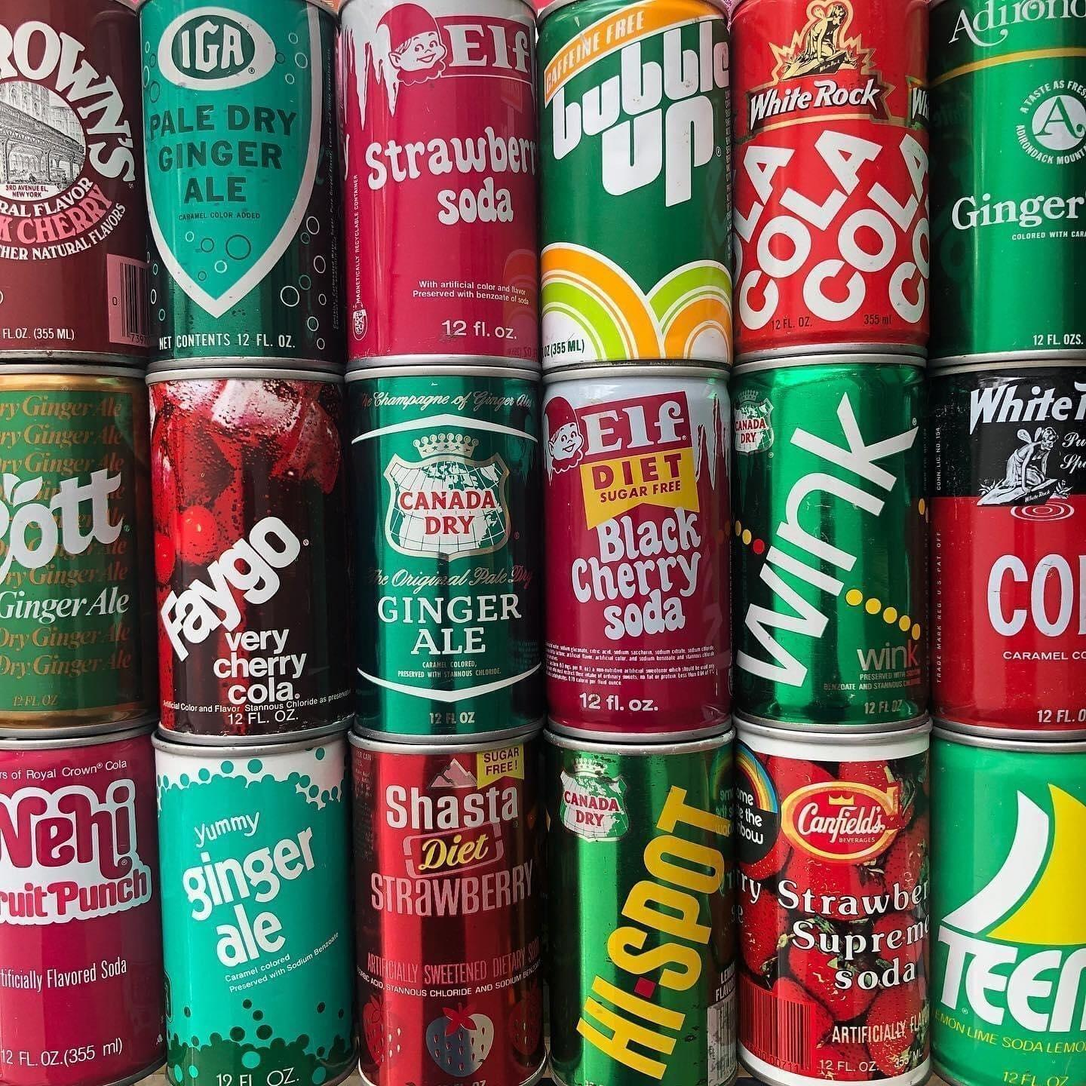tin can: (146, 364, 359, 744), (131, 2, 345, 376), (348, 359, 553, 744), (731, 353, 928, 741), (348, 730, 562, 1086), (546, 363, 736, 744), (337, 0, 536, 363), (148, 727, 346, 1086), (539, 0, 732, 364), (551, 730, 747, 1086), (741, 720, 930, 1086), (732, 0, 936, 339), (1, 358, 158, 740), (940, 357, 1086, 741), (931, 0, 1086, 348), (937, 725, 1086, 1086), (5, 729, 152, 1086), (0, 1, 143, 364)
